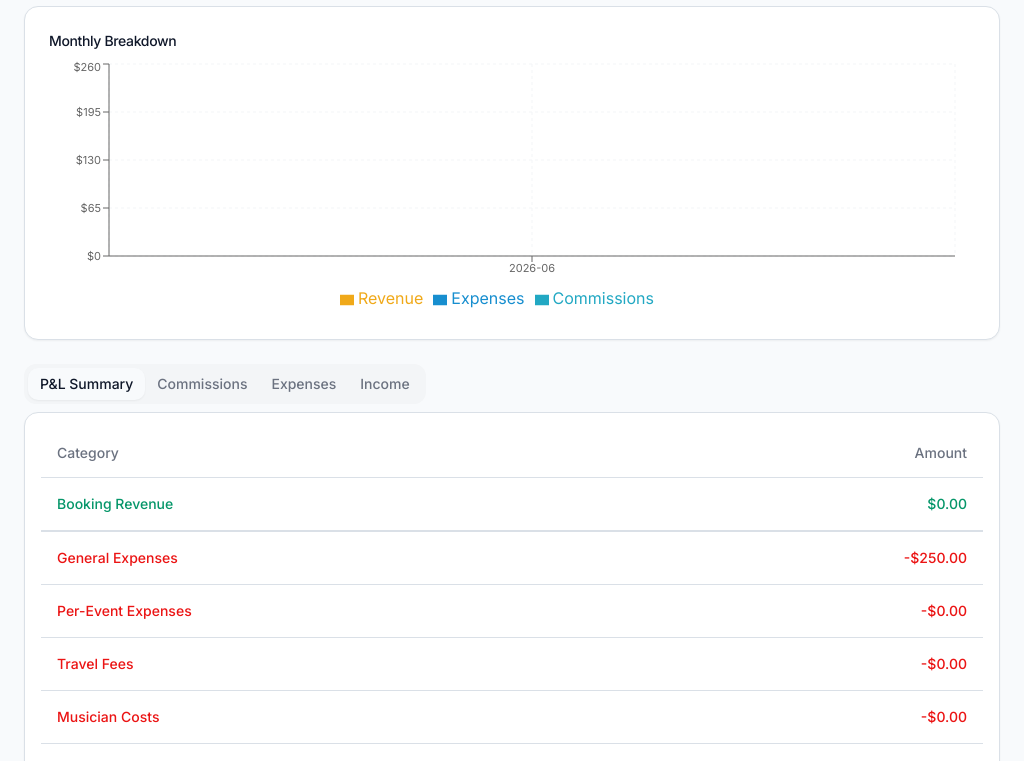
Finance › edits an existing expense, pre-filling the form
Later steps or results of the test are not shown.
(page scrolled)
Press the mouse on the tab "Expenses": (304, 384) [259,368,348,400]
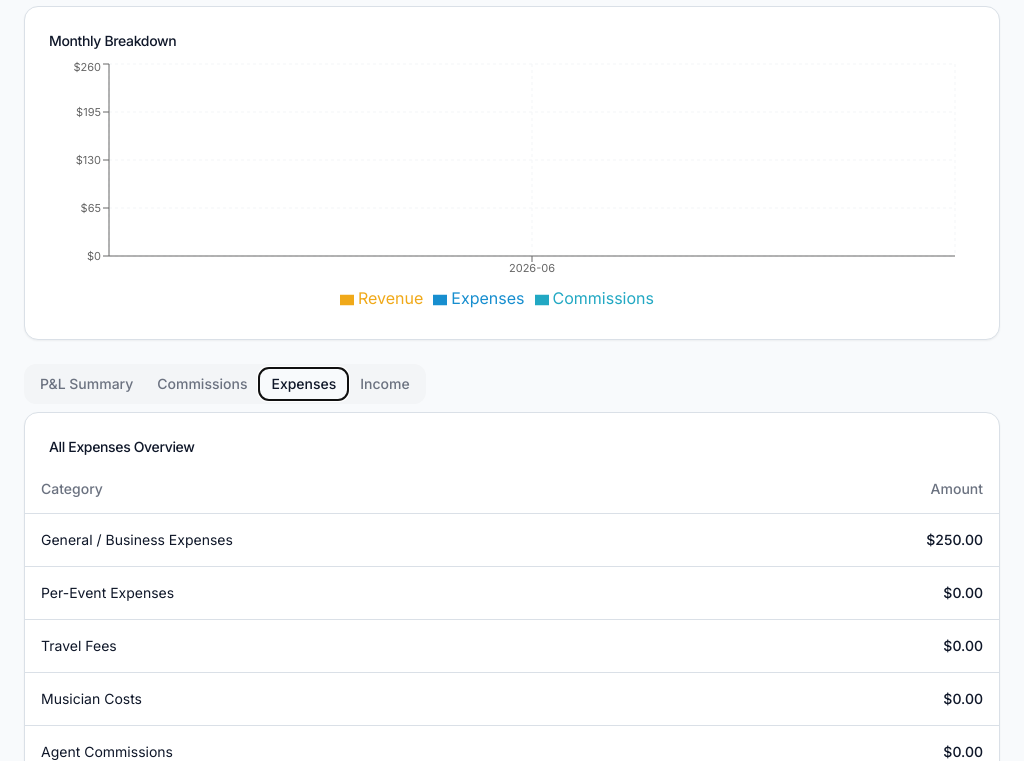
Click the tab "Expenses": (304, 384) [259,368,348,400]
(page scrolled)
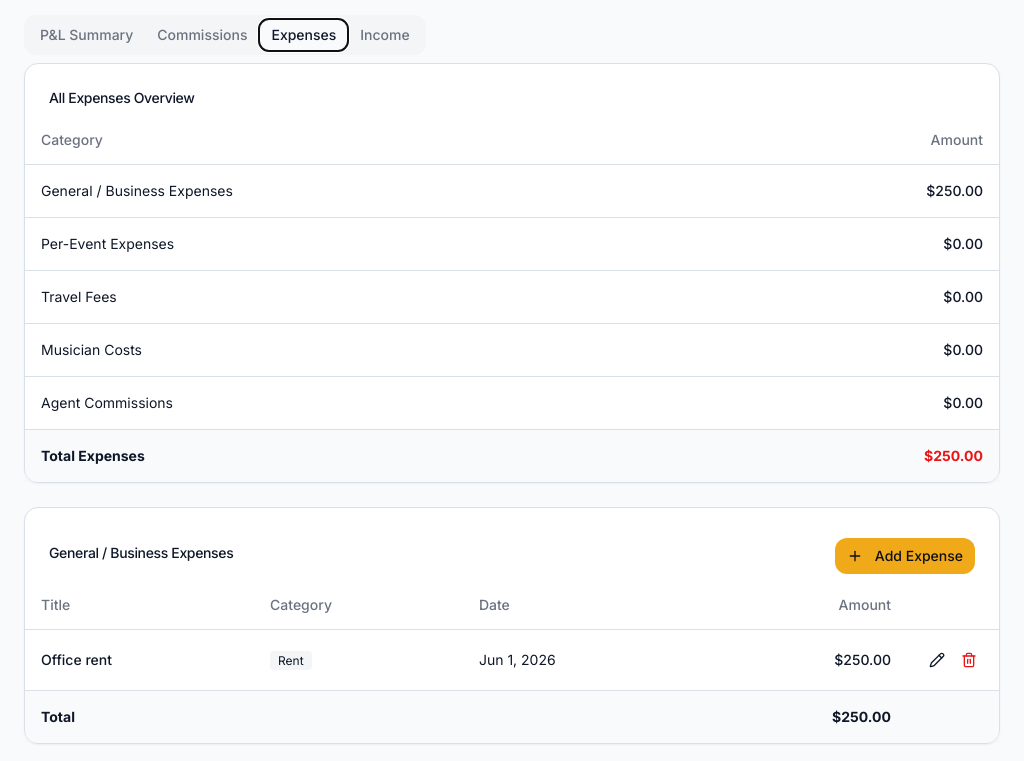
Now the text "Office rent" is shown, box [25,630,254,690]
Click the 2nd button: (937, 660) [923,646,951,674]
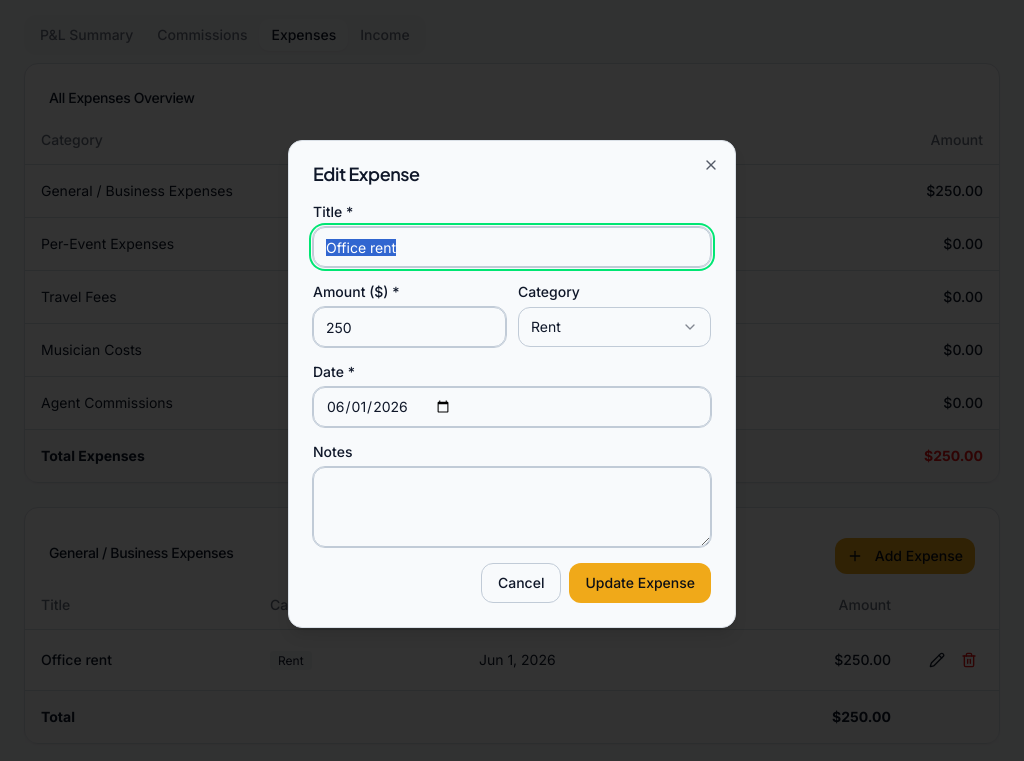
Now the field labelled "Title *" holds "Office rent", box [313,227,711,267]
